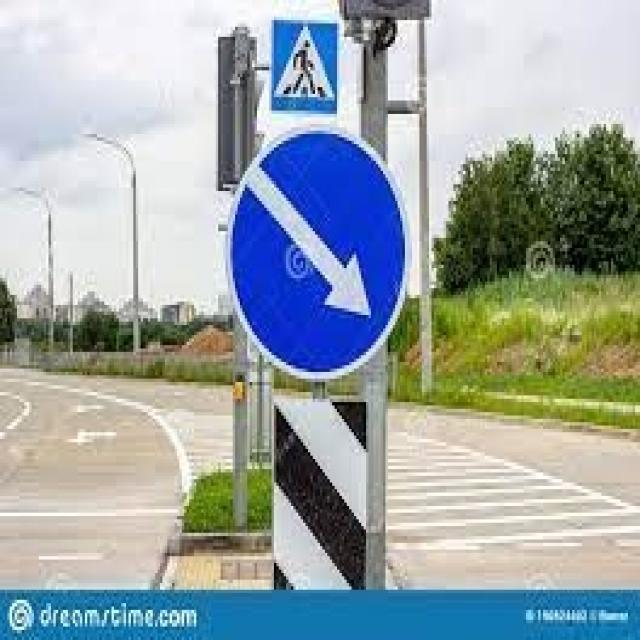compulsory_keep_right: (226, 128, 416, 386)
